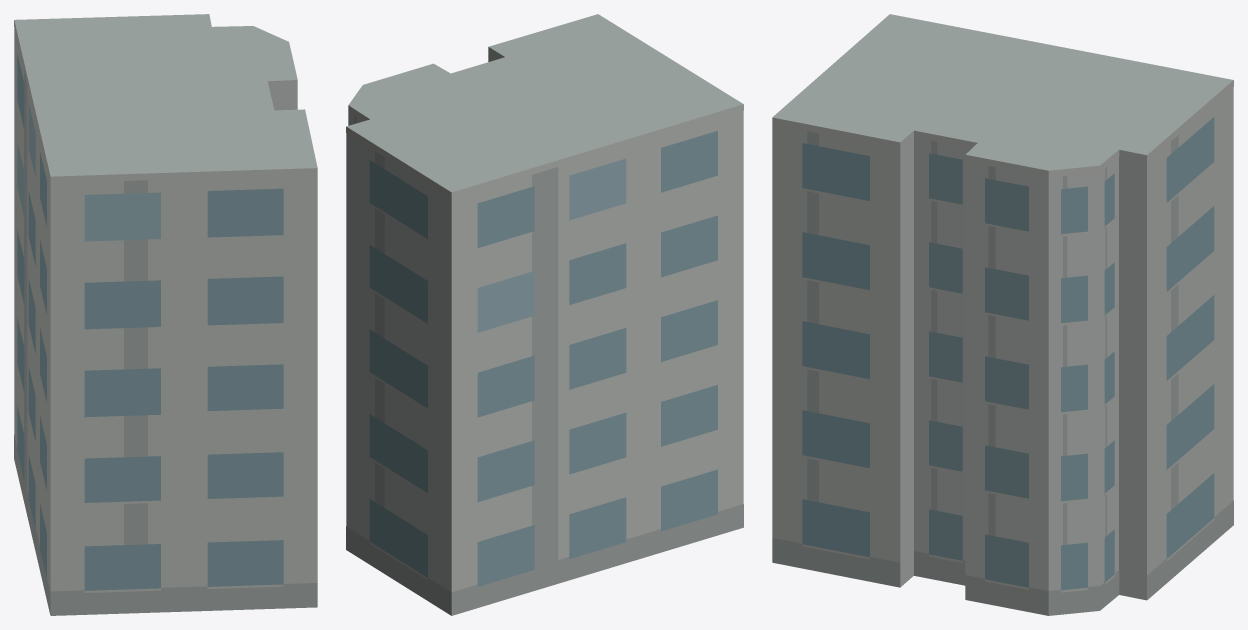
File: survey-upis-32901529.glb
3 renders of one model, left to right at view 1: azimuth 30°, elevation 25°; view 2: azimuth 150°, elevation 25°; view 3: azimuth 270°, elevation 25°, orthographic. The views are drawn at different scales.
Visible parts, largest first — view 1: survey-upis-32901529.tmp; view 2: survey-upis-32901529.tmp; view 3: survey-upis-32901529.tmp.
Part boxes in pixels (bbox=[...]): survey-upis-32901529.tmp: bbox=[14, 14, 317, 615]; survey-upis-32901529.tmp: bbox=[346, 14, 743, 615]; survey-upis-32901529.tmp: bbox=[772, 14, 1233, 615].
Bounding box in the file's own units: 11.86 × 15.7 × 14.76.
